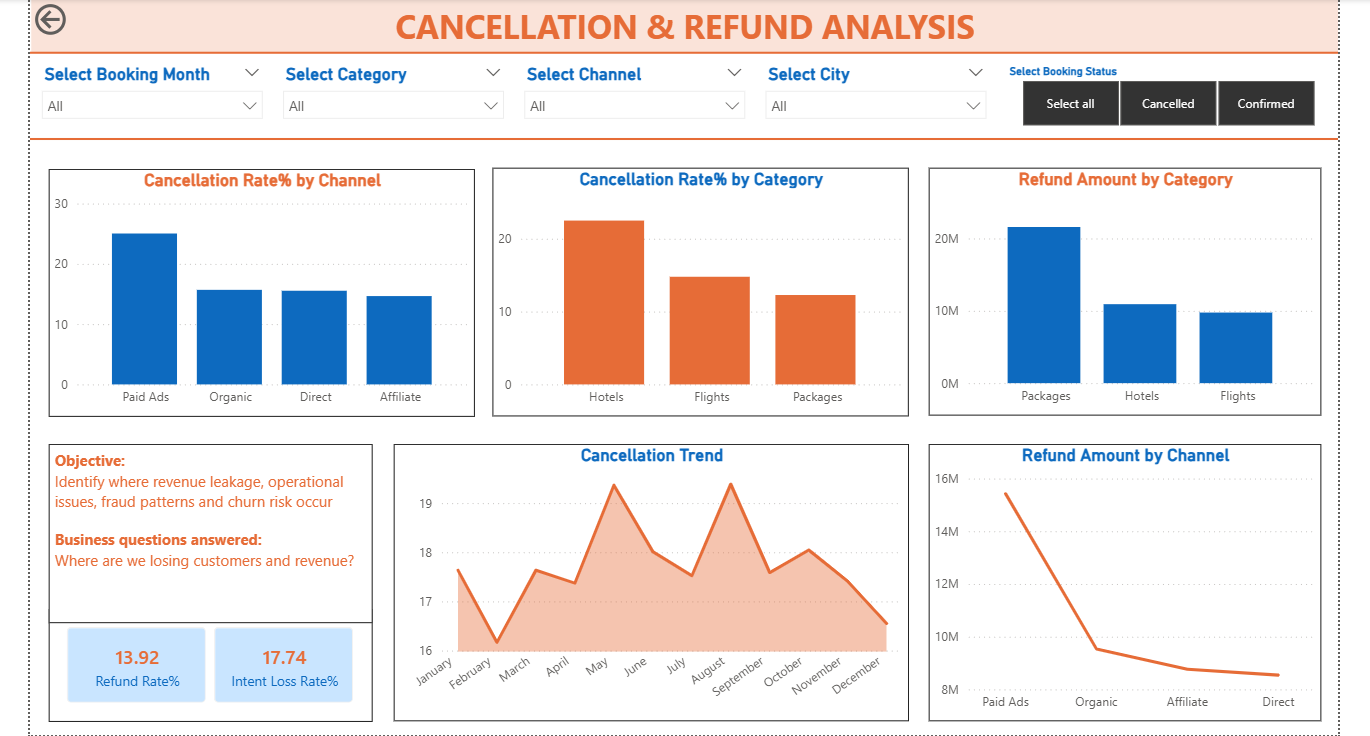

The page's visual inventory and layout, read from the dashboard file:
{"tool":"powerbi","page":{"name":"Cancellation Analysis","canvas":[1280,720],"ordinal":5},"visuals":[{"type":"textbox","box":[1.2,0,1279.1,52.6],"z":0},{"type":"columnChart","title":"Cancellation Rate% by Channel","fields":{"Y":["Bookings_Data.Cancellation Rate"],"Category":["Bookings_Data.Channel"]},"box":[18.3,166.3,417,242.1],"z":1000},{"type":"columnChart","title":"Cancellation Rate% by Category","fields":{"Y":["Bookings_Data.Cancellation Rate"],"Category":["Bookings_Data.Category"]},"box":[452.4,165.1,407.2,243.3],"z":2000},{"type":"columnChart","title":"Refund Amount by Category","fields":{"Y":["Sum(Bookings_Data.Refund_Amount)"],"Category":["Bookings_Data.Category"]},"box":[879.2,165.1,384,242.1],"z":3000},{"type":"areaChart","title":"Cancellation Trend","fields":{"Category":["Bookings_Data.Booking_Date.Variation.Date Hierarchy.Month"],"Y":["Bookings_Data.Cancellation Rate"]},"box":[355.8,435.3,503.8,271.5],"z":4000},{"type":"lineChart","title":"Refund Amount by Channel","fields":{"Y":["Sum(Bookings_Data.Refund_Amount)"],"Category":["Bookings_Data.Channel"]},"box":[879.2,435.3,384,271.5],"z":5000},{"type":"cardVisual","fields":{"Data":["Bookings_Data.Refund Rate","Bookings_Data.Cancellation Rate"]},"box":[18.3,596.7,316.7,110.1],"z":6000},{"type":"textbox","box":[18.3,435.3,316.7,174.9],"z":7000},{"type":"slicer","fields":{"Values":["Bookings_Data.Booking_Date.Variation.Date Hierarchy.Month"]},"box":[1.2,58.7,236,72.1],"z":8000},{"type":"slicer","fields":{"Values":["Bookings_Data.Category"]},"box":[237.2,58.7,236,72.1],"z":9000},{"type":"slicer","fields":{"Values":["Bookings_Data.Channel"]},"box":[473.2,58.7,236,72.1],"z":10000},{"type":"slicer","fields":{"Values":["Bookings_Data.City"]},"box":[709.2,58.7,236,72.1],"z":11000},{"type":"slicer","fields":{"Values":["Bookings_Data.Booking_Status"]},"box":[945.2,58.7,335.1,72.1],"z":12000},{"type":"shape","box":[0,46.5,1280.3,12.2],"z":13000},{"type":"shape","box":[0,130.8,1280.3,12.2],"z":14000},{"type":"actionButton","box":[0,0,100,40],"z":15000}]}

Visuals, with their boxes on the page's 1280x720 design canvas (x1, y1, x2, y2). These are canvas units, not pixel positions in the 1370x736 screenshot, which may show the page scaled, cropped or inside an application window:
textbox: BBox(1, 0, 1280, 53)
"Cancellation Rate% by Channel" columnChart: BBox(18, 166, 435, 408)
"Cancellation Rate% by Category" columnChart: BBox(452, 165, 860, 408)
"Refund Amount by Category" columnChart: BBox(879, 165, 1263, 407)
"Cancellation Trend" areaChart: BBox(356, 435, 860, 707)
"Refund Amount by Channel" lineChart: BBox(879, 435, 1263, 707)
cardVisual - Bookings_Data.Refund Rate x Bookings_Data.Cancellation Rate: BBox(18, 597, 335, 707)
textbox: BBox(18, 435, 335, 610)
slicer - Bookings_Data.Booking_Date.Variation.Date Hierarchy.Month: BBox(1, 59, 237, 131)
slicer - Bookings_Data.Category: BBox(237, 59, 473, 131)
slicer - Bookings_Data.Channel: BBox(473, 59, 709, 131)
slicer - Bookings_Data.City: BBox(709, 59, 945, 131)
slicer - Bookings_Data.Booking_Status: BBox(945, 59, 1280, 131)
shape: BBox(0, 46, 1280, 59)
shape: BBox(0, 131, 1280, 143)
actionButton: BBox(0, 0, 100, 40)
